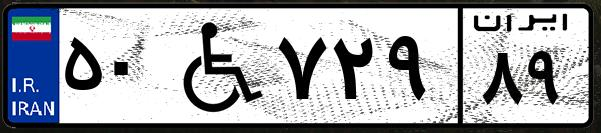0: (110, 28, 158, 98)
2: (330, 28, 385, 110)
5: (57, 26, 110, 100)
7: (270, 28, 330, 110)
8: (475, 38, 525, 113)
9: (385, 28, 445, 110), (525, 38, 570, 115)
ژ (معلولین و جانبازان): (158, 12, 270, 120)
